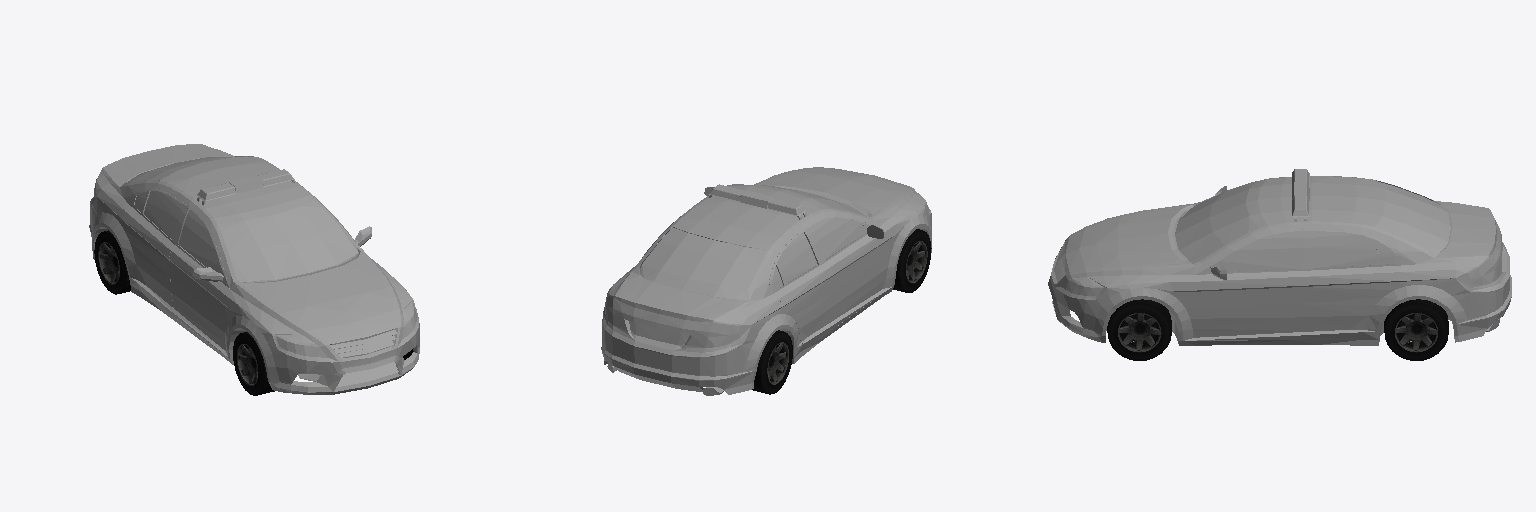
The picture shows the model from 3 angles: view 1: azimuth 30°, elevation 25°; view 2: azimuth 150°, elevation 25°; view 3: azimuth 270°, elevation 25°; orthographic projection.
Visible parts, largest first — view 1: NYPD_car_mat_1, NYPD_car_mat_6, NYPD_car_mat_2, NYPD_car_mat_7, NYPD_car_mat_4; view 2: NYPD_car_mat_1, NYPD_car_mat_6, NYPD_car_mat_2, NYPD_car_mat_4; view 3: NYPD_car_mat_1, NYPD_car_mat_6, NYPD_car_mat_2, NYPD_car_mat_4.
Boxes of the visible parts, <box> form: NYPD_car_mat_1: <box>89,144,419,394</box>; NYPD_car_mat_6: <box>128,156,416,357</box>; NYPD_car_mat_2: <box>94,230,413,395</box>; NYPD_car_mat_7: <box>141,156,398,387</box>; NYPD_car_mat_4: <box>94,227,391,381</box>; NYPD_car_mat_1: <box>601,167,931,394</box>; NYPD_car_mat_6: <box>640,184,928,298</box>; NYPD_car_mat_2: <box>752,229,931,394</box>; NYPD_car_mat_4: <box>607,186,928,395</box>; NYPD_car_mat_1: <box>1048,173,1511,345</box>; NYPD_car_mat_6: <box>1062,169,1450,295</box>; NYPD_car_mat_2: <box>1107,299,1448,360</box>; NYPD_car_mat_4: <box>1167,205,1499,343</box>.
Size of the model in its own units: 4.9 by 3.52 by 10.95.
Materials: 8 (2 with a texture image).